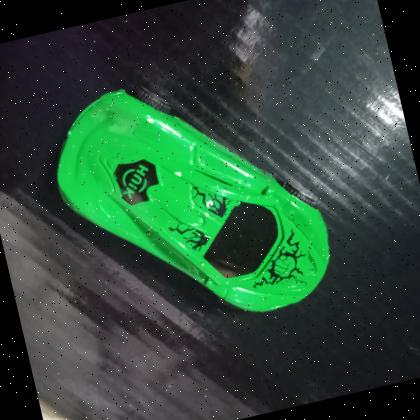Car: (55, 86, 330, 311)
